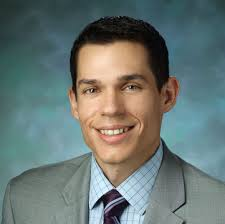No-Glasses: (71, 77, 158, 104)
